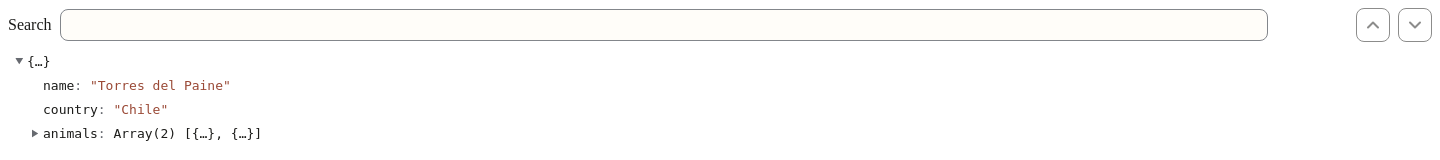
Test case: ObjectInspector › search › counts the matches and marks them in the rows that are showing
In the search field labelled "Search": (664, 25) [60,9,1268,41], type "guanaco"
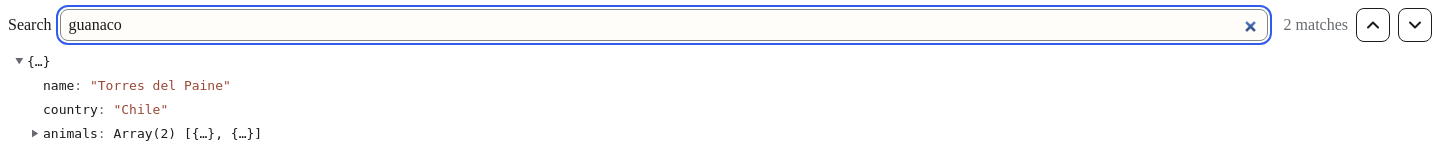
Result: the text "2 matches" is shown at [1276,16,1348,34]
Replace the text in the search field with "chi": (664, 25) [60,9,1268,41]
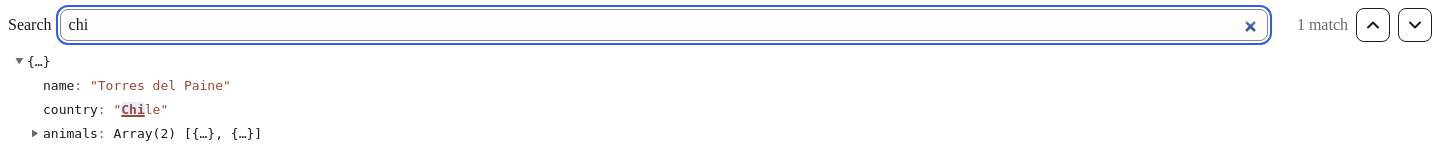
Result: the text "1 match" is shown at [1297,16,1348,33]
